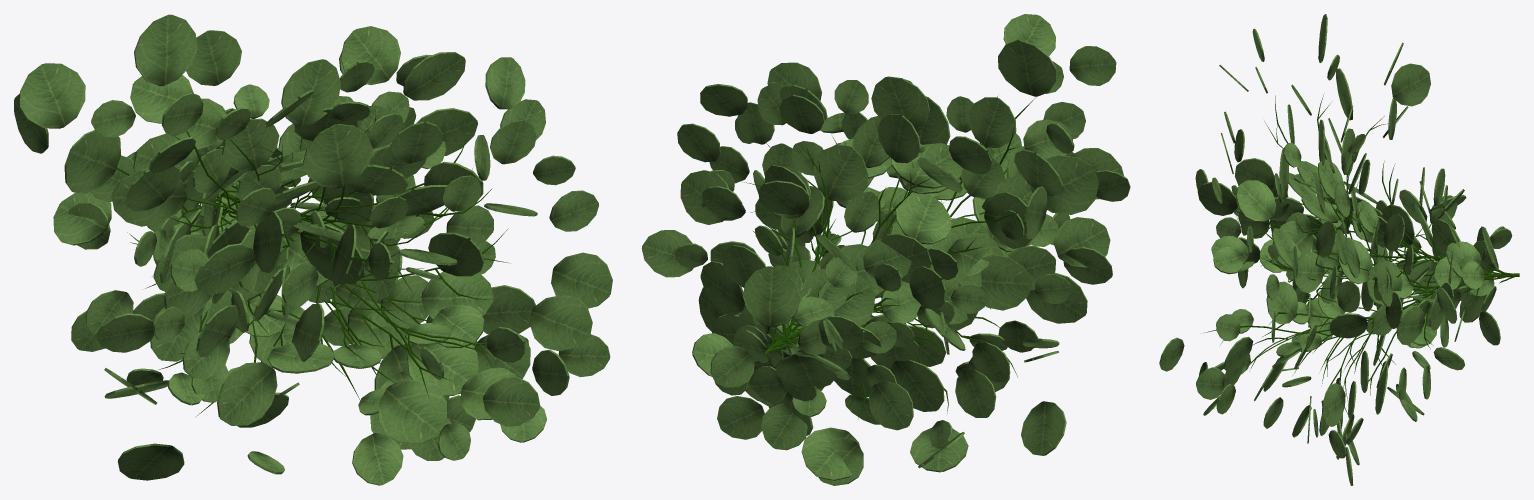
The model's file is plant36.obj.
3 views of the same model, side by side, from view 1: azimuth 30°, elevation 25°; view 2: azimuth 150°, elevation 25°; view 3: azimuth 270°, elevation 25° (orthographic). The views are drawn at different scales.
Visible parts, largest first — view 1: leaves, tree; view 2: leaves, tree; view 3: leaves, tree.
Part boxes in pixels (x1=…): leaves: x1=14, y1=14, x2=612, y2=485; tree: x1=116, y1=105, x2=509, y2=422; leaves: x1=641, y1=14, x2=1130, y2=485; tree: x1=744, y1=96, x2=1035, y2=418; leaves: x1=1159, y1=14, x2=1512, y2=485; tree: x1=1203, y1=94, x2=1519, y2=414.
Bounding box in the file's own units: 0.5838 × 0.5828 × 0.5261.
Materials: 2 (2 with a texture image).
